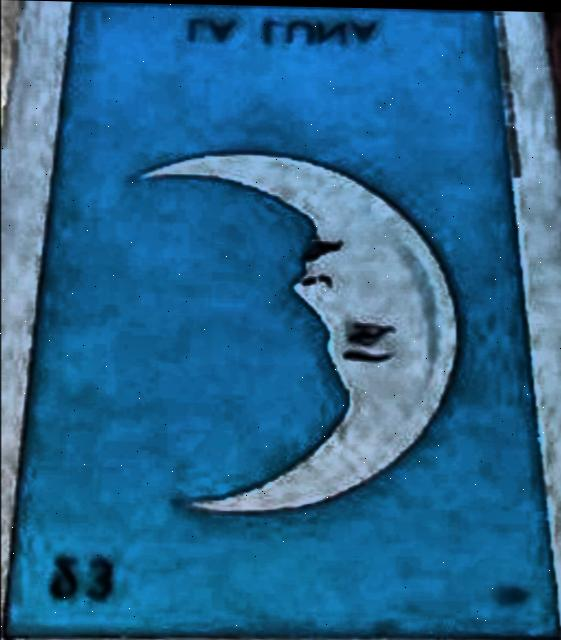La Luna: (5, 6, 559, 640)
